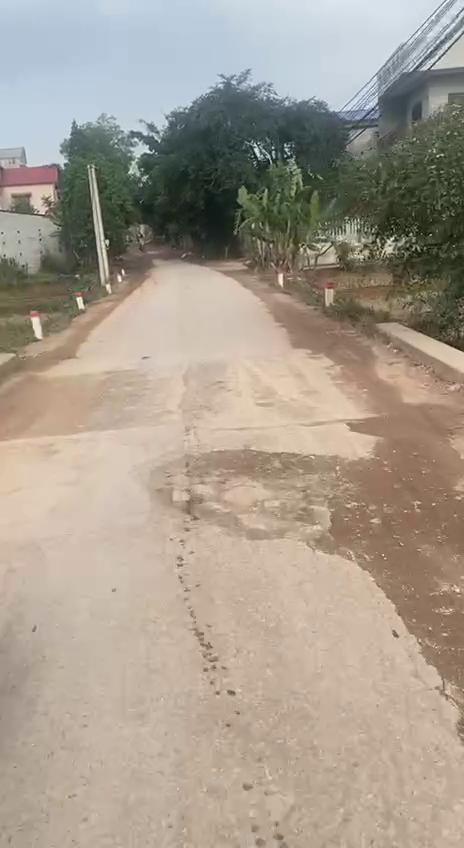pothole: (140, 442, 382, 552)
